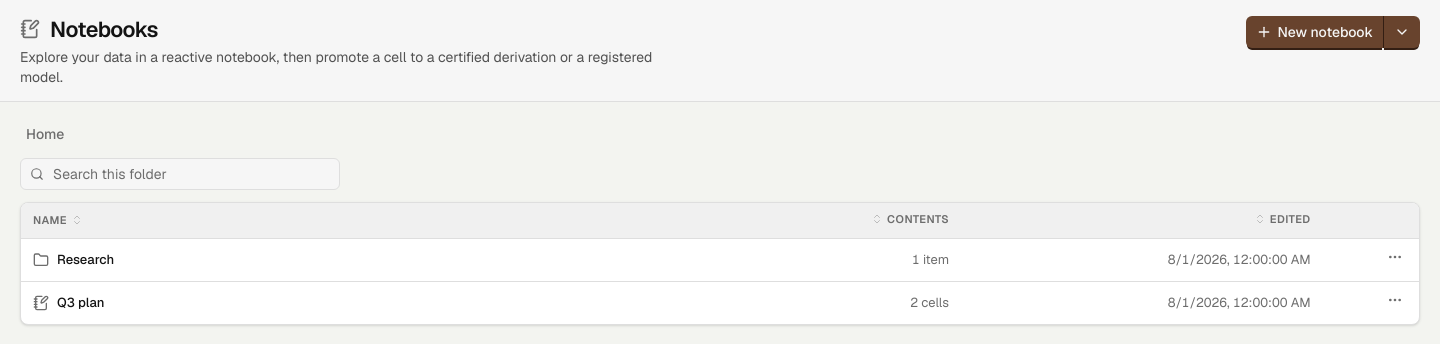
it: NotebooksPage folders › walks into a folder and back out through the breadcrumb
Click the text "Research" at (86, 260), box [57,250,114,270]
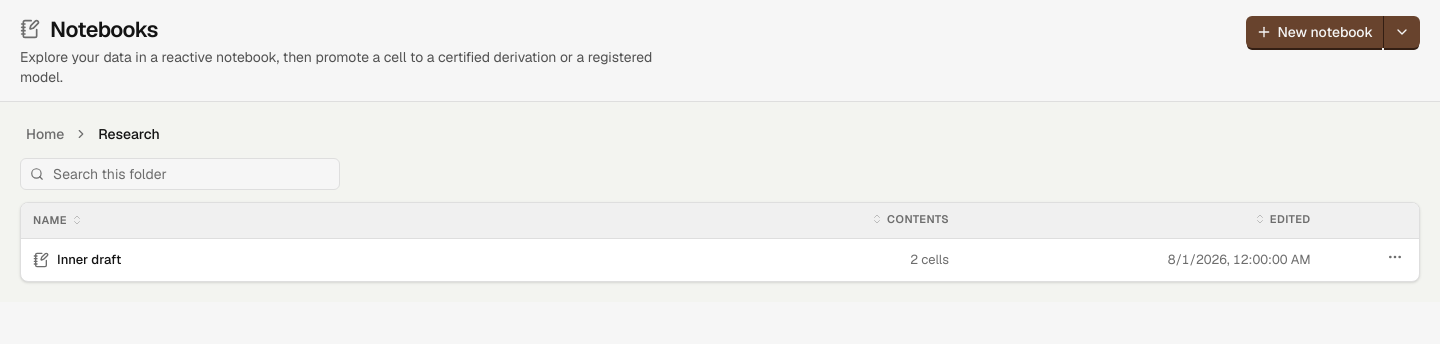
Check: the button "Research" is shown, box [92,122,166,146]
Check: the text "Inner draft" is shown, box [57,250,121,270]
Check: the text "Q3 plan" is gone
Click the button "Home" at (45, 134), box [20,122,70,146]
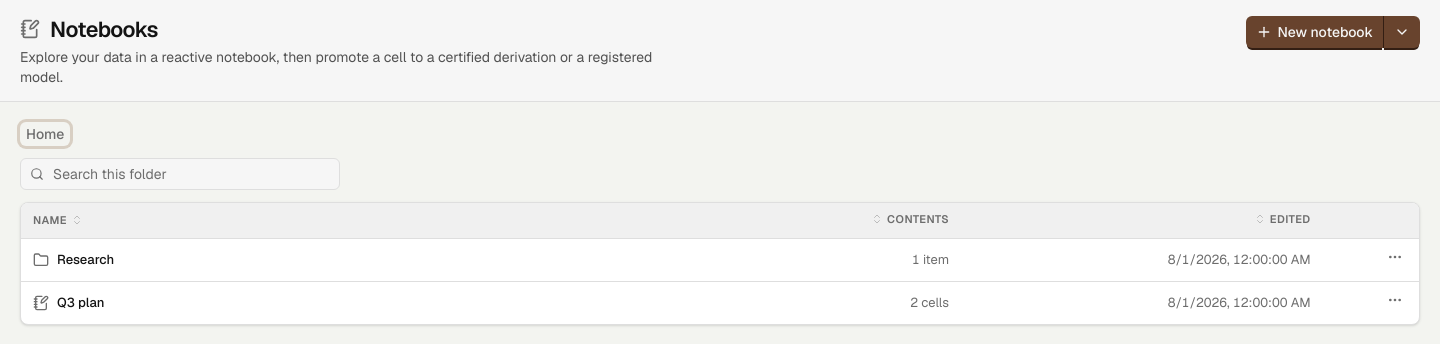
Check: the text "Q3 plan" is shown, box [57,293,104,312]
Check: the text "Inner draft" is gone
